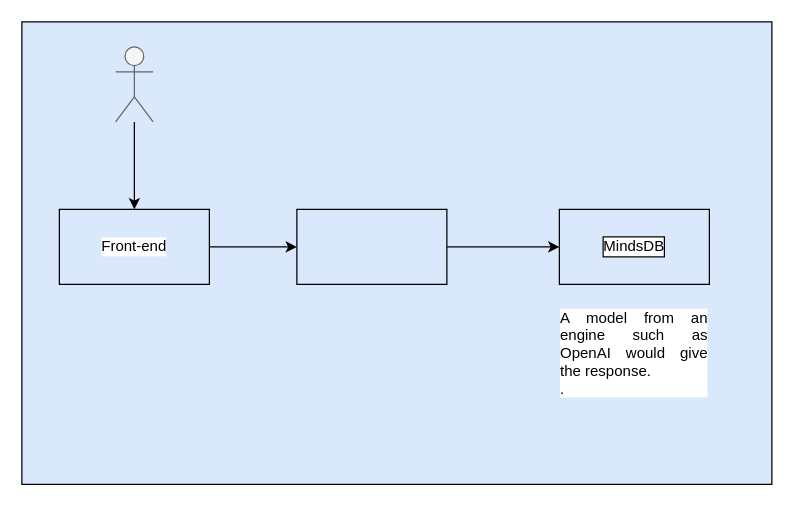
Image size: 794x506. Some labels were removed from this diagram. The centre of each missing label's shape, as x and y in pixels:
"Actor" belongs at point 133,84.
"Backend" belongs at point 371,246.
